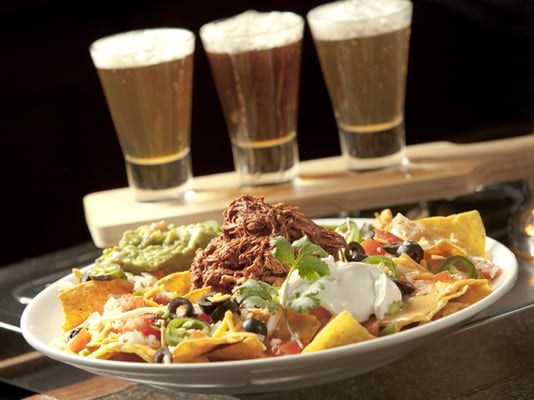sushi: (8, 193, 531, 396)
